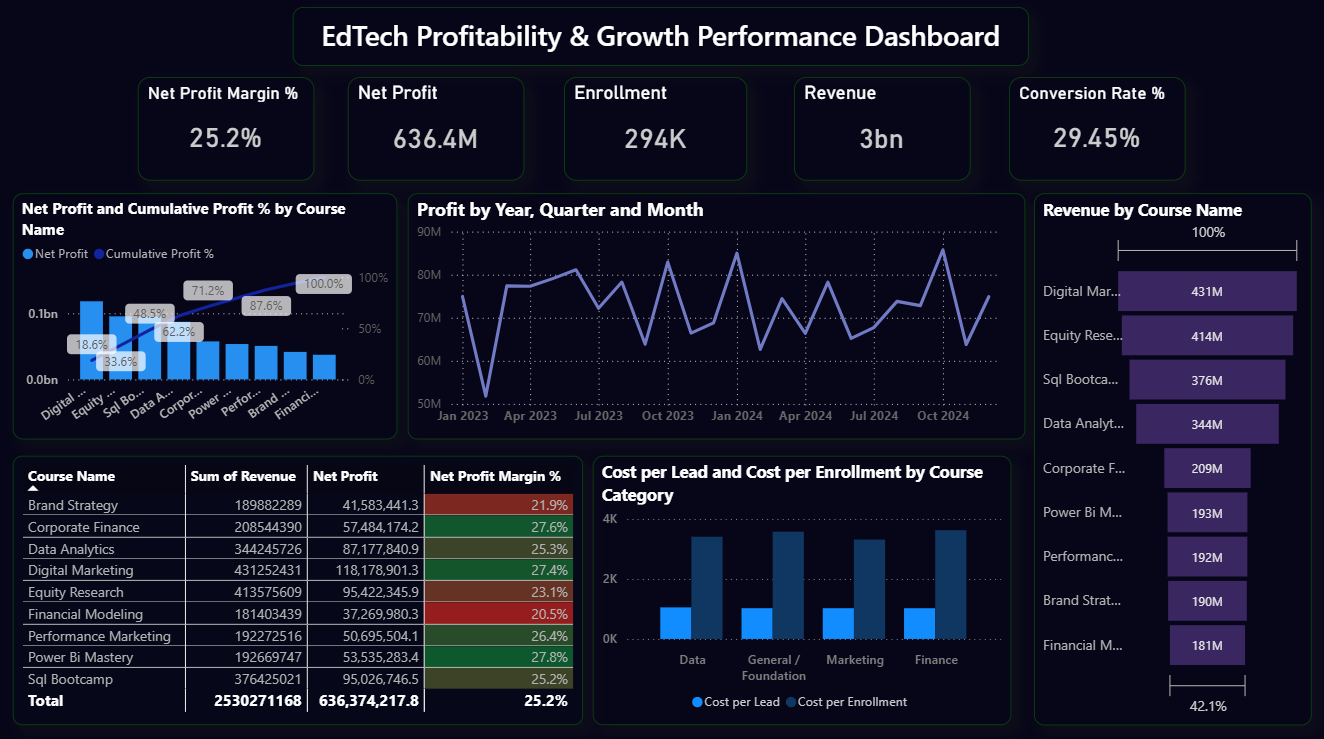

The dashboard page shown, as its layout file describes it:
{"tool":"powerbi","page":{"name":"Page 1","canvas":[1280,720],"ordinal":0},"visuals":[{"type":"card","title":"Net Profit Margin %","fields":{"Values":["Clean_EdTech_Fact.Net Profit Margin %"]},"box":[133.9,77.2,170,100],"z":0,"group":"g1"},{"type":"lineChart","title":"Profit by Year, Quarter and Month","fields":{"Y":["Sum(Clean_EdTech_Fact.Profit)"],"Category":["Clean_EdTech_Fact.Date.Variation.Date Hierarchy.Year","Clean_EdTech_Fact.Date.Variation.Date Hierarchy.Quarter","Clean_EdTech_Fact.Date.Variation.Date Hierarchy.Month"]},"box":[394.5,189.4,596,237.7],"z":0},{"type":"card","title":"Revenue","fields":{"Values":["Sum(Clean_EdTech_Fact.Revenue)"]},"box":[766.8,77.2,170,100],"z":1000,"group":"g1"},{"type":"group","id":"g1","title":"Group 1","box":[133.9,77.2,1012.2,100.1],"z":1000},{"type":"card","title":"Net Profit","fields":{"Values":["Clean_EdTech_Fact.Net Profit"]},"box":[336.8,77.2,170,100],"z":2000,"group":"g1"},{"type":"clusteredColumnChart","title":"Cost per Lead and Cost per Enrollment by Course Category","fields":{"Category":["Clean_EdTech_Fact.Course Category"],"Y":["Clean_EdTech_Fact.Cost per Lead","Clean_EdTech_Fact.Cost per Enrollment"]},"box":[572.5,442.5,403.8,260],"z":2000},{"type":"card","title":"Enrollment ","fields":{"Values":["Sum(Clean_EdTech_Fact.Enrollments_clean)"]},"box":[545.3,77.2,177.1,100],"z":3000,"group":"g1"},{"type":"tableEx","fields":{"Values":["Clean_EdTech_Fact.Course Name","Sum(Clean_EdTech_Fact.Revenue)","Clean_EdTech_Fact.Net Profit","Clean_EdTech_Fact.Net Profit Margin %"]},"box":[12.9,442.9,550,260],"z":3000},{"type":"card","title":"Conversion Rate %","fields":{"Values":["Clean_EdTech_Fact.Conversion Rate %"]},"box":[975.3,77.2,170,100],"z":4000,"group":"g1"},{"type":"funnel","title":"Revenue by Course Name","fields":{"Category":["Clean_EdTech_Fact.Course Name"],"Y":["Sum(Clean_EdTech_Fact.Revenue)"]},"box":[998.9,189.4,267.8,513.9],"z":4000},{"type":"lineStackedColumnComboChart","fields":{"Category":["Clean_EdTech_Fact.Course Name"],"Y":["Clean_EdTech_Fact.Net Profit"],"Y2":["Clean_EdTech_Fact.Cumulative Profit %"]},"box":[13.3,189.4,371.6,237.7],"z":5000},{"type":"textbox","box":[283.5,9.7,710.6,56.7],"z":6000}]}

Visuals, with their boxes in screenshot pixels (x1, y1, x2, y2), scaled from the page's 1280x720 canvas onto the 1324x739 screenshot:
"Net Profit Margin %" card: [left=139, top=79, right=314, bottom=182]
"Profit by Year, Quarter and Month" lineChart: [left=408, top=194, right=1025, bottom=438]
"Revenue" card: [left=793, top=79, right=969, bottom=182]
"Group 1" group: [left=139, top=79, right=1185, bottom=182]
"Net Profit" card: [left=348, top=79, right=524, bottom=182]
"Cost per Lead and Cost per Enrollment by Course Category" clusteredColumnChart: [left=592, top=454, right=1010, bottom=721]
"Enrollment " card: [left=564, top=79, right=747, bottom=182]
tableEx - Clean_EdTech_Fact.Course Name x Sum(Clean_EdTech_Fact.Revenue): [left=13, top=455, right=582, bottom=721]
"Conversion Rate %" card: [left=1009, top=79, right=1185, bottom=182]
"Revenue by Course Name" funnel: [left=1033, top=194, right=1310, bottom=722]
lineStackedColumnComboChart - Clean_EdTech_Fact.Course Name x Clean_EdTech_Fact.Net Profit: [left=14, top=194, right=398, bottom=438]
textbox: [left=293, top=10, right=1028, bottom=68]
